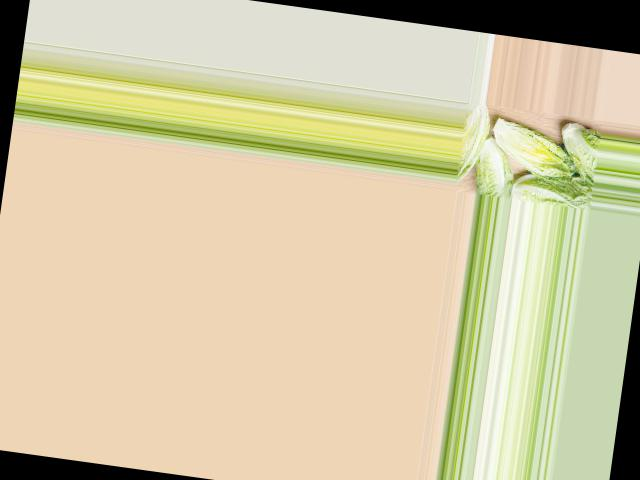lettuce: (455, 103, 494, 184)
